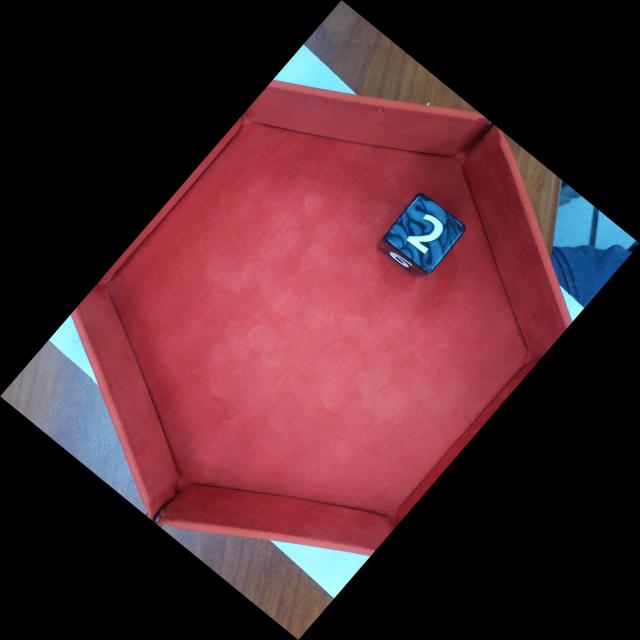dice: (390, 196, 463, 273)
